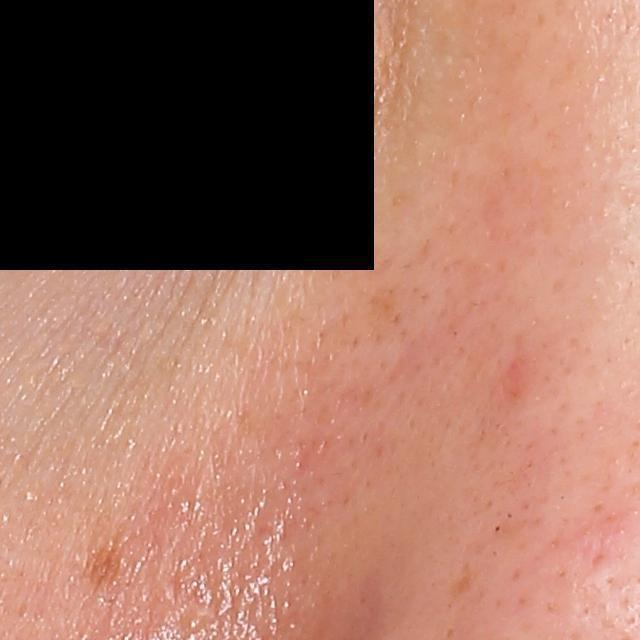melasma: (80, 536, 121, 589)
